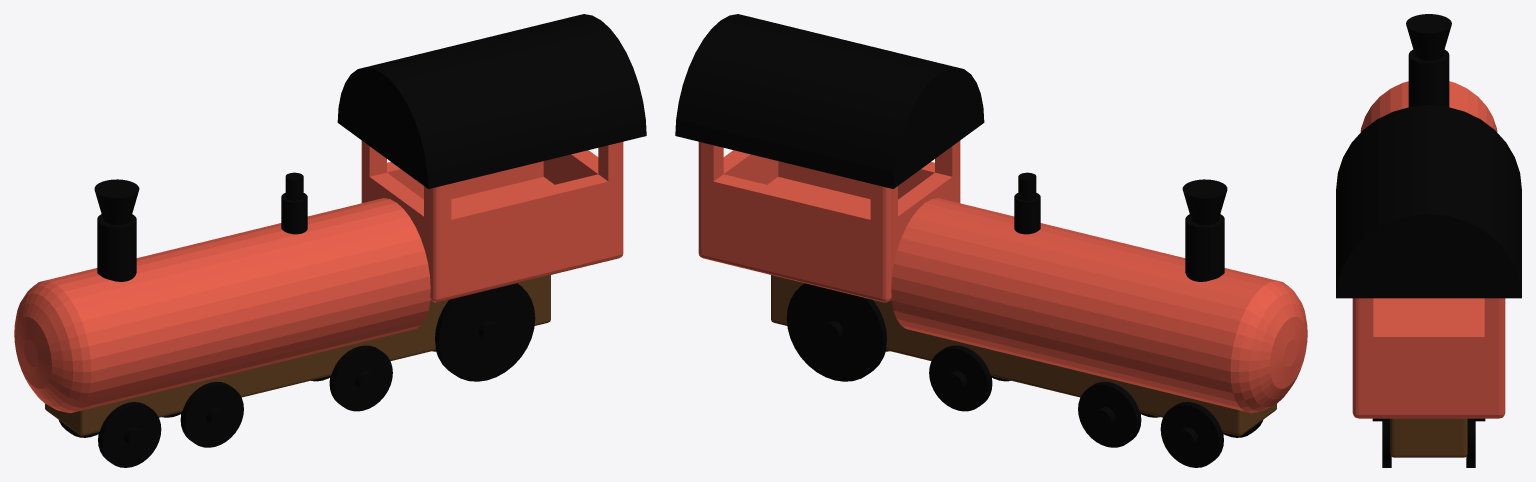
File: train.fbx
3 renders of one model, left to right at view 1: azimuth 30°, elevation 25°; view 2: azimuth 150°, elevation 25°; view 3: azimuth 270°, elevation 25°, orthographic. The views are drawn at different scales.
Parts seen in each view (by area): view 1: Cylinder; view 2: Cylinder; view 3: Cylinder.
Boxes of the visible parts, x1,y1,x2,y2 form: Cylinder: (14, 14, 646, 467); Cylinder: (675, 14, 1307, 467); Cylinder: (1336, 14, 1521, 467).
Size of the model in its own units: 21.54 by 11.19 by 5.94.
1 material, 1 textured.
